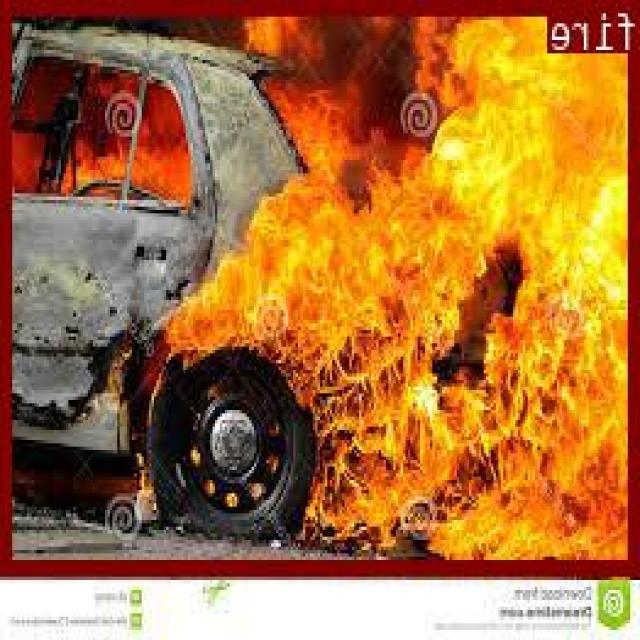fire: (5, 0, 640, 570)
